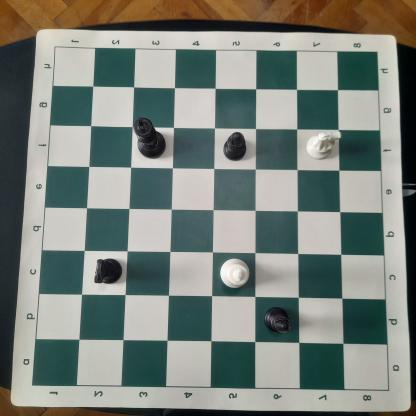black-bishop: (261, 302, 294, 338), (221, 130, 250, 164)
black-king: (130, 114, 168, 160)
black-knight: (91, 255, 124, 288)
white-king: (216, 254, 252, 290)
white-knight: (304, 126, 345, 161)
